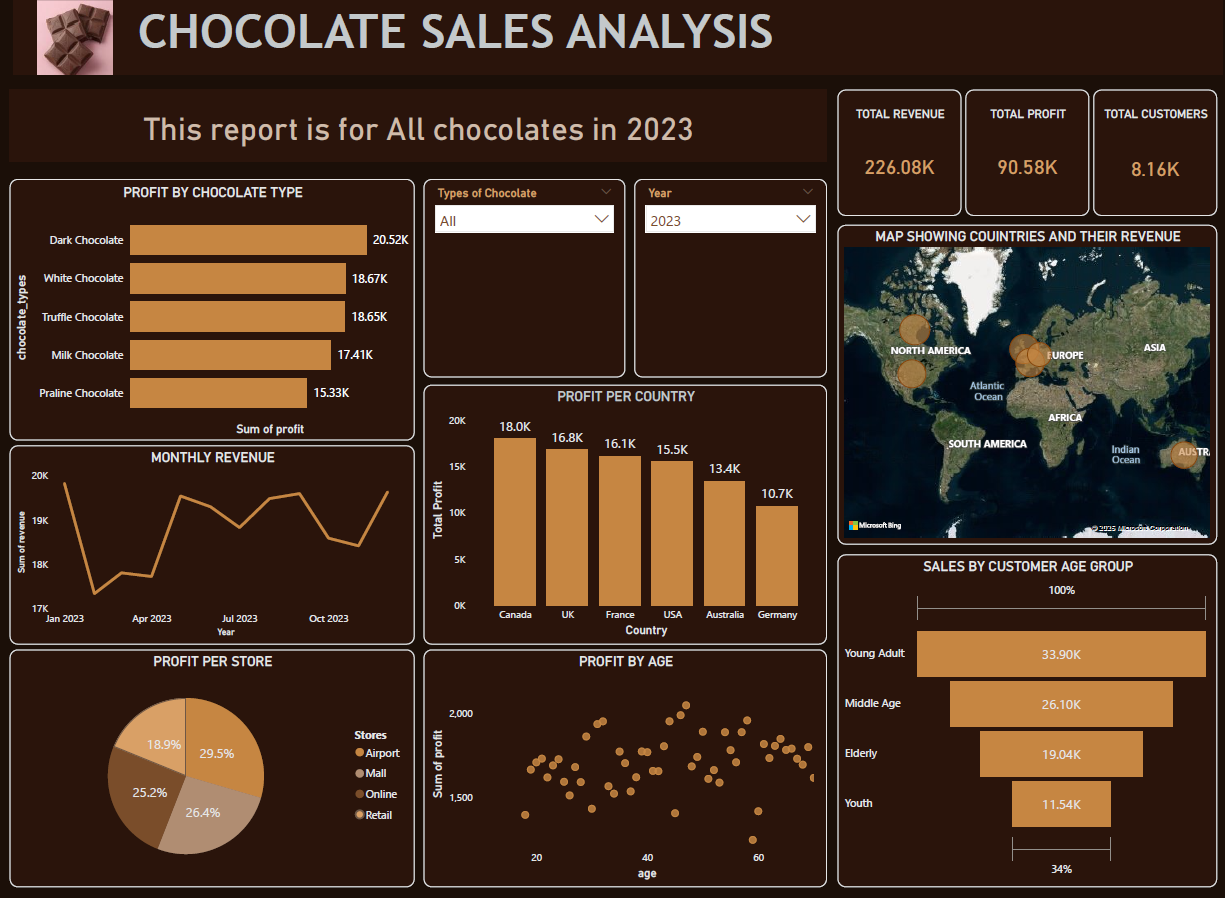

The dashboard page shown, as its layout file describes it:
{"tool":"powerbi","page":{"name":"Page 1","canvas":[1500,1100],"ordinal":0},"visuals":[{"type":"barChart","title":"PROFIT BY CHOCOLATE TYPE","fields":{"Category":["worksheet.chocolate_types"],"Y":["Sum(worksheet.profit)","Sum(worksheet.revenue)"]},"box":[11.3,220.3,493.7,318.4],"z":0},{"type":"card","title":"TOTAL CUSTOMERS","fields":{"Values":["Count(worksheet.customer_id)"]},"box":[1333.1,111,151.2,154.4],"z":1000},{"type":"card","title":"TOTAL PROFIT","fields":{"Values":["Sum(worksheet.profit)"]},"box":[1177.1,111,151.2,154.4],"z":2000},{"type":"lineChart","title":"MONTHLY REVENUE","fields":{"Y":["Sum(worksheet.revenue)"],"Category":["worksheet.order_date.Variation.Date Hierarchy.Year","worksheet.order_date.Variation.Date Hierarchy.Quarter","worksheet.order_date.Variation.Date Hierarchy.Month"]},"box":[11.3,545.1,493.7,242.8],"z":3000},{"type":"hundredPercentStackedColumnChart","title":"PROFIT PER COUNTRY","fields":{"Y":["Sum(worksheet.profit)","Sum(worksheet.revenue)"],"Category":["worksheet.country"]},"box":[516.2,471.2,492.1,316.8],"z":4000},{"type":"map","title":"MAP SHOWING COUINTRIES AND THEIR REVENUE","fields":{"Category":["worksheet.country"],"Size":["Sum(worksheet.revenue)"]},"box":[1020.6,275.9,463.3,390],"z":5000},{"type":"scatterChart","title":"PROFIT BY AGE","fields":{"X":["worksheet.age"],"Y":["Sum(worksheet.profit)"]},"box":[516.2,794.4,492.1,289.5],"z":6000},{"type":"funnel","title":"SALES BY CUSTOMER AGE GROUP","fields":{"Category":["worksheet.age_group"],"Y":["Sum(worksheet.profit)"]},"box":[1020.6,677.6,463.3,406.7],"z":7000},{"type":"pieChart","title":"PROFIT PER STORE","fields":{"Y":["Sum(worksheet.profit)"],"Category":["worksheet.store_type"]},"box":[11.3,794.4,493.7,289.5],"z":8000},{"type":"slicer","title":"REVENUE AND PROFIT BY CHOCOLATE TYPE","fields":{"Values":["worksheet.chocolate_types"]},"box":[516.2,220.3,246,241.2],"z":9000},{"type":"textbox","box":[16.1,0,1474.6,93.3],"z":10000},{"type":"card","title":"TOTAL REVENUE","fields":{"Values":["Sum(worksheet.revenue)"]},"box":[1021.1,111,151.2,154.4],"z":11000},{"type":"slicer","title":"REVENUE AND PROFIT BY CHOCOLATE TYPE","fields":{"Values":["worksheet.order_date.Variation.Date Hierarchy.Year"]},"box":[773.5,220.3,234.8,241.2],"z":12000},{"type":"card","fields":{"Values":["worksheet.InteractiveTitle"]},"box":[11.3,111,997,88.4],"z":13000},{"type":"image","box":[16.1,1.6,147.9,91.7],"z":14000}]}

Visuals, with their boxes in screenshot pixels (x1, y1, x2, y2), scaled from the page's 1500x1100 canvas onto the 1225x898 screenshot:
"PROFIT BY CHOCOLATE TYPE" barChart: region(9, 180, 412, 440)
"TOTAL CUSTOMERS" card: region(1089, 91, 1212, 217)
"TOTAL PROFIT" card: region(961, 91, 1085, 217)
"MONTHLY REVENUE" lineChart: region(9, 445, 412, 643)
"PROFIT PER COUNTRY" hundredPercentStackedColumnChart: region(422, 385, 823, 643)
"MAP SHOWING COUINTRIES AND THEIR REVENUE" map: region(833, 225, 1212, 544)
"PROFIT BY AGE" scatterChart: region(422, 649, 823, 885)
"SALES BY CUSTOMER AGE GROUP" funnel: region(833, 553, 1212, 885)
"PROFIT PER STORE" pieChart: region(9, 649, 412, 885)
"REVENUE AND PROFIT BY CHOCOLATE TYPE" slicer: region(422, 180, 622, 377)
textbox: region(13, 0, 1217, 76)
"TOTAL REVENUE" card: region(834, 91, 957, 217)
"REVENUE AND PROFIT BY CHOCOLATE TYPE" slicer: region(632, 180, 823, 377)
card - worksheet.InteractiveTitle: region(9, 91, 823, 163)
image: region(13, 1, 134, 76)
